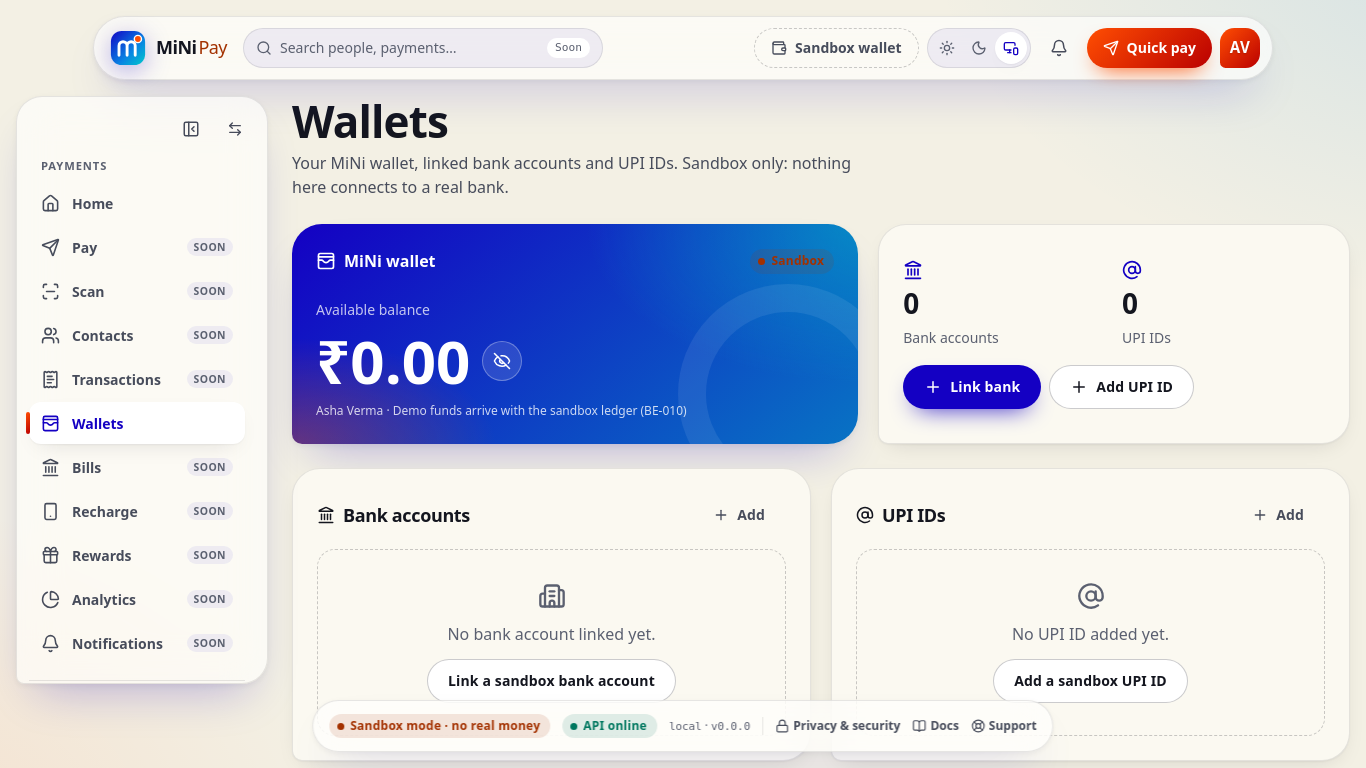
Test: wallets › detects the bank from the IFSC and asks for a name when it is unknown
Click the button "Link bank": (972,387) top-left (903, 365), bottom-right (1041, 409)
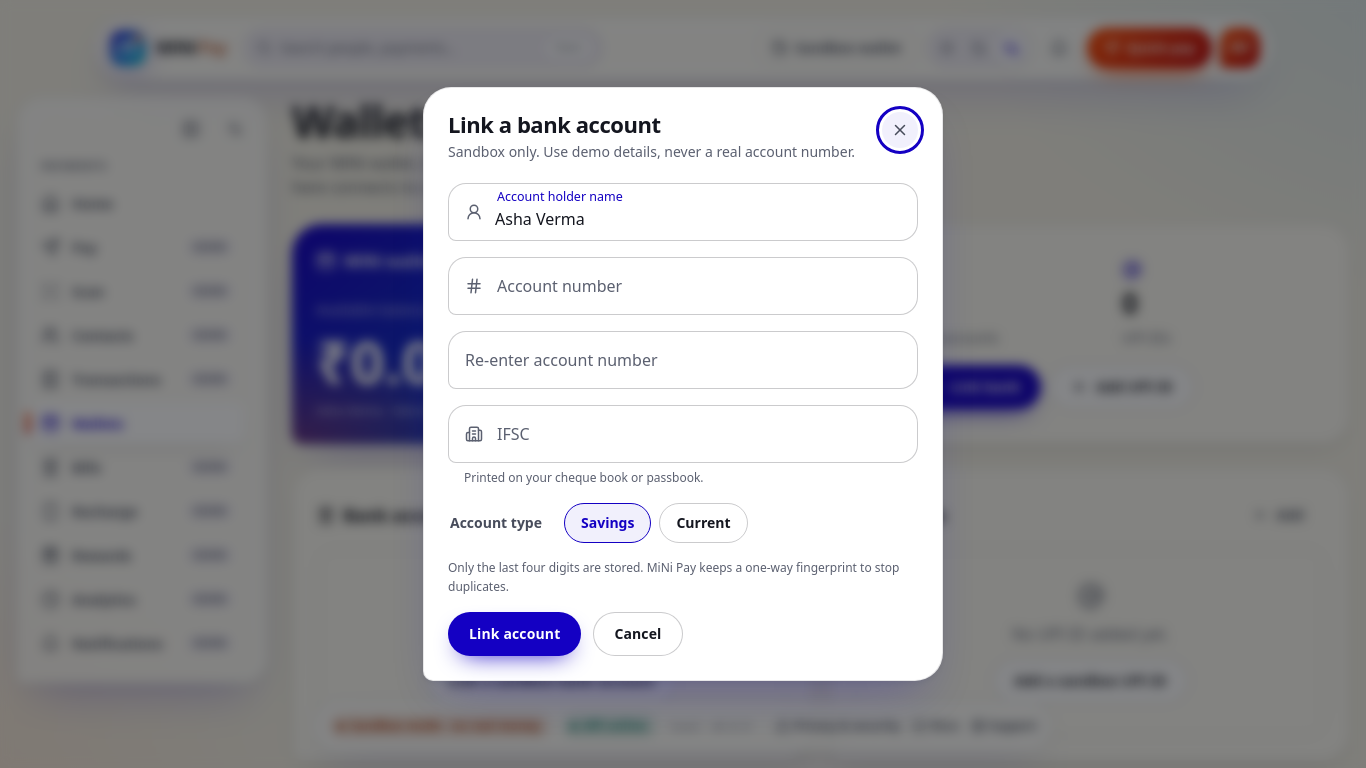
In the field labelled "IFSC": (698,434) top-left (495, 406), bottom-right (901, 462), type "hdfc0001234"
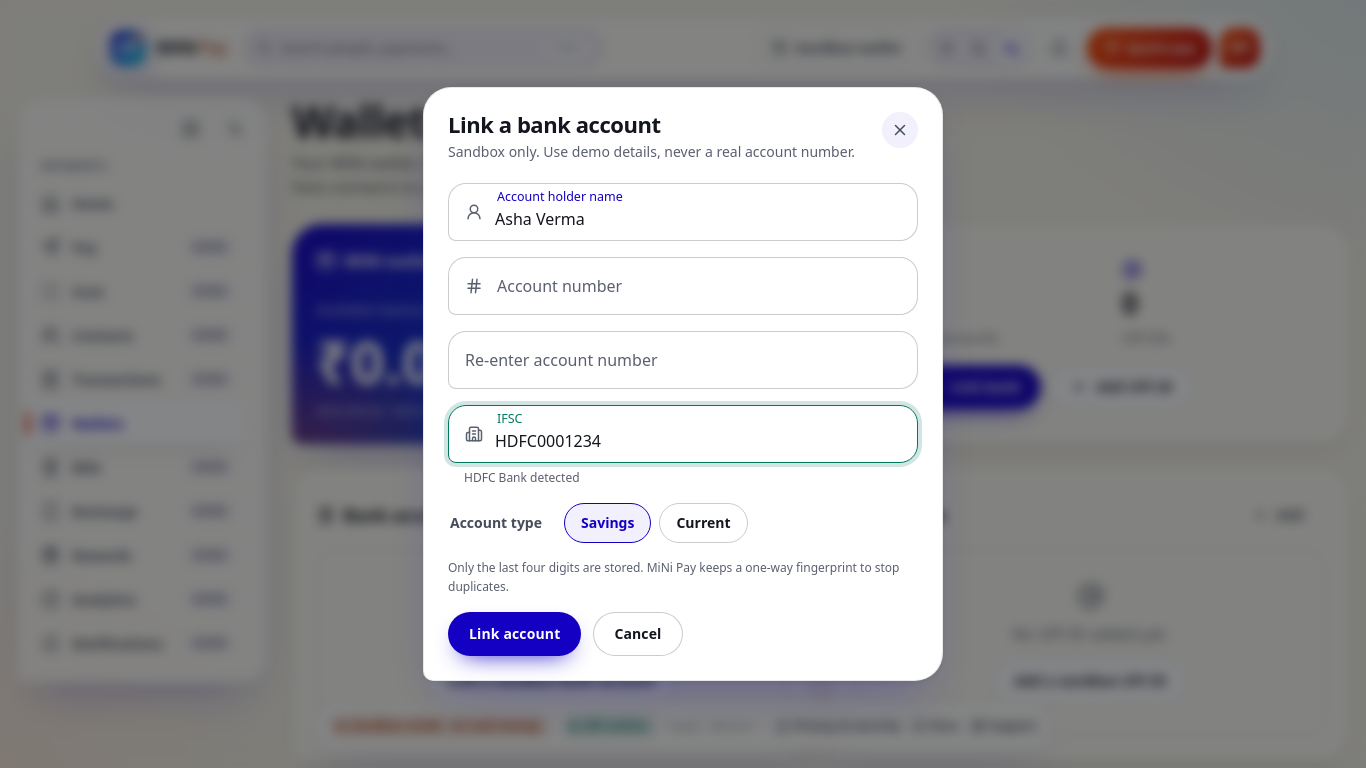
Expected: the field labelled "Bank name" is not shown
Expected: the text "HDFC Bank detected" is shown, top-left (464, 469), bottom-right (580, 486)
Replace the text in the field labelled "IFSC" with "ZZZZ0001234": (698,434) top-left (495, 406), bottom-right (901, 462)
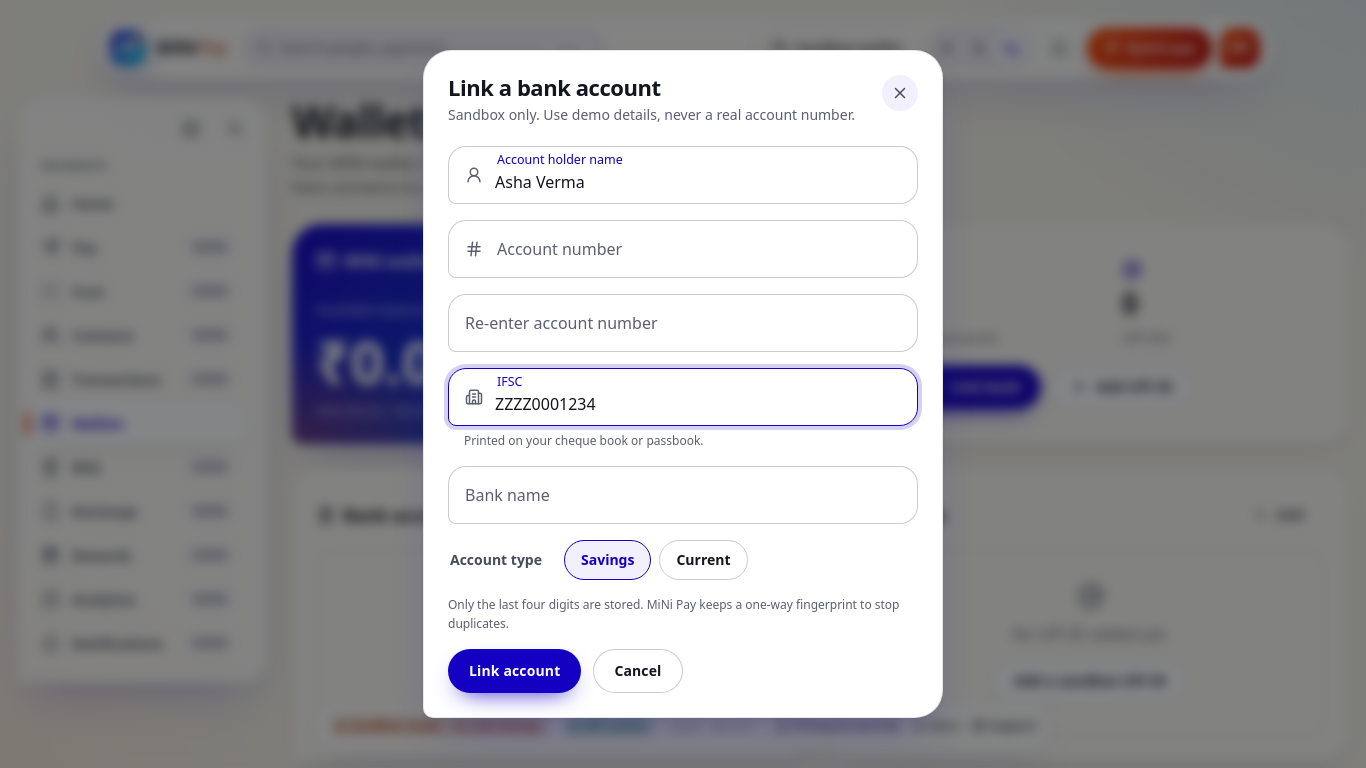
Expected: the field labelled "Bank name" is shown, top-left (465, 467), bottom-right (901, 523)
